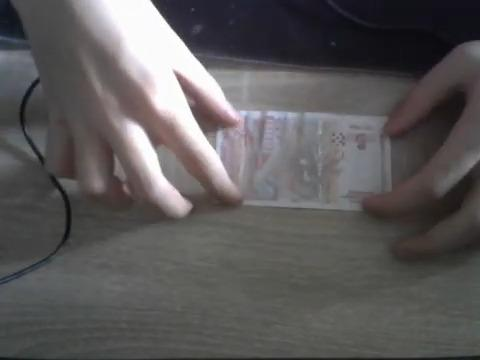5leva: (242, 111, 393, 211)
